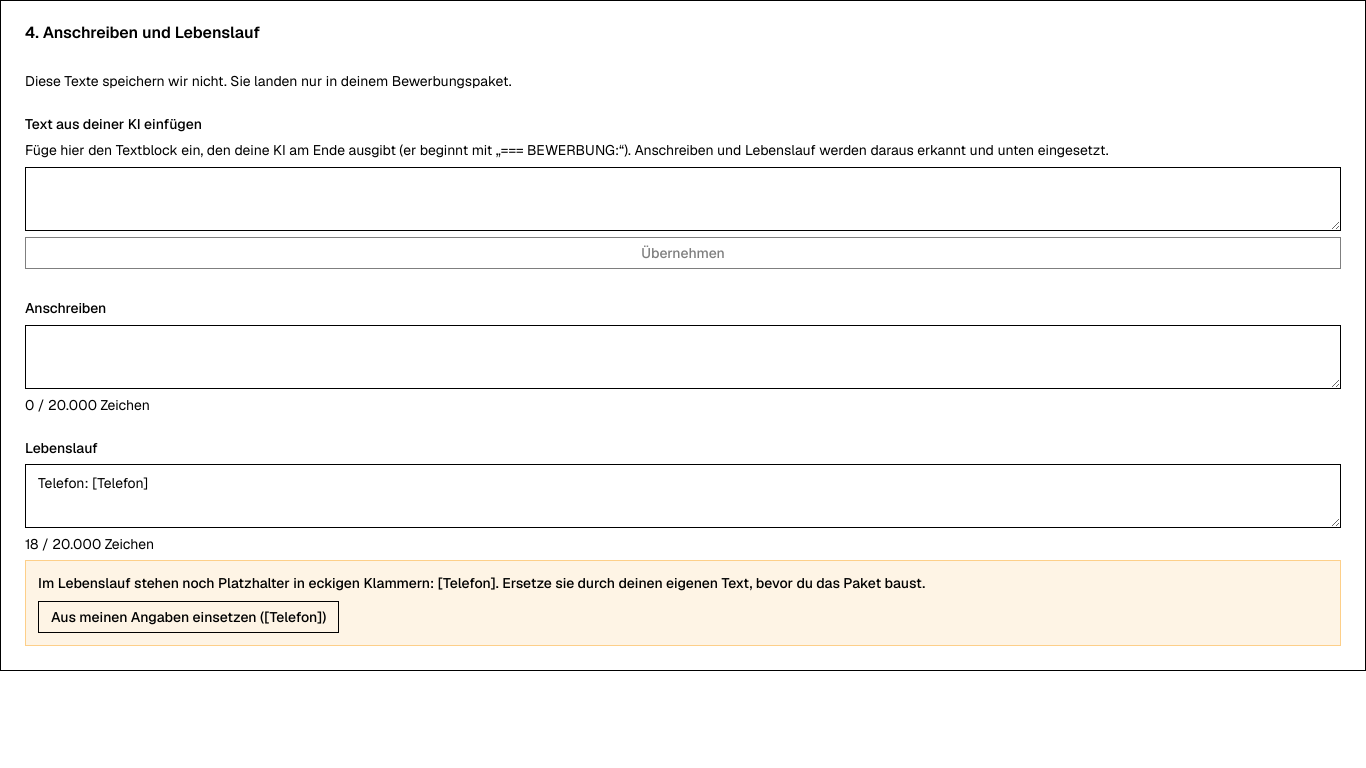
Scenario: SchrittTexte - Fokus › setzt den Fokus nach „Aus meinen Angaben einsetzen" in das Feld, in dem eingesetzt wurde
Click the button "Aus meinen Angaben einsetzen ([Telefon])" at [189, 617], box 38,601 -> 339,633
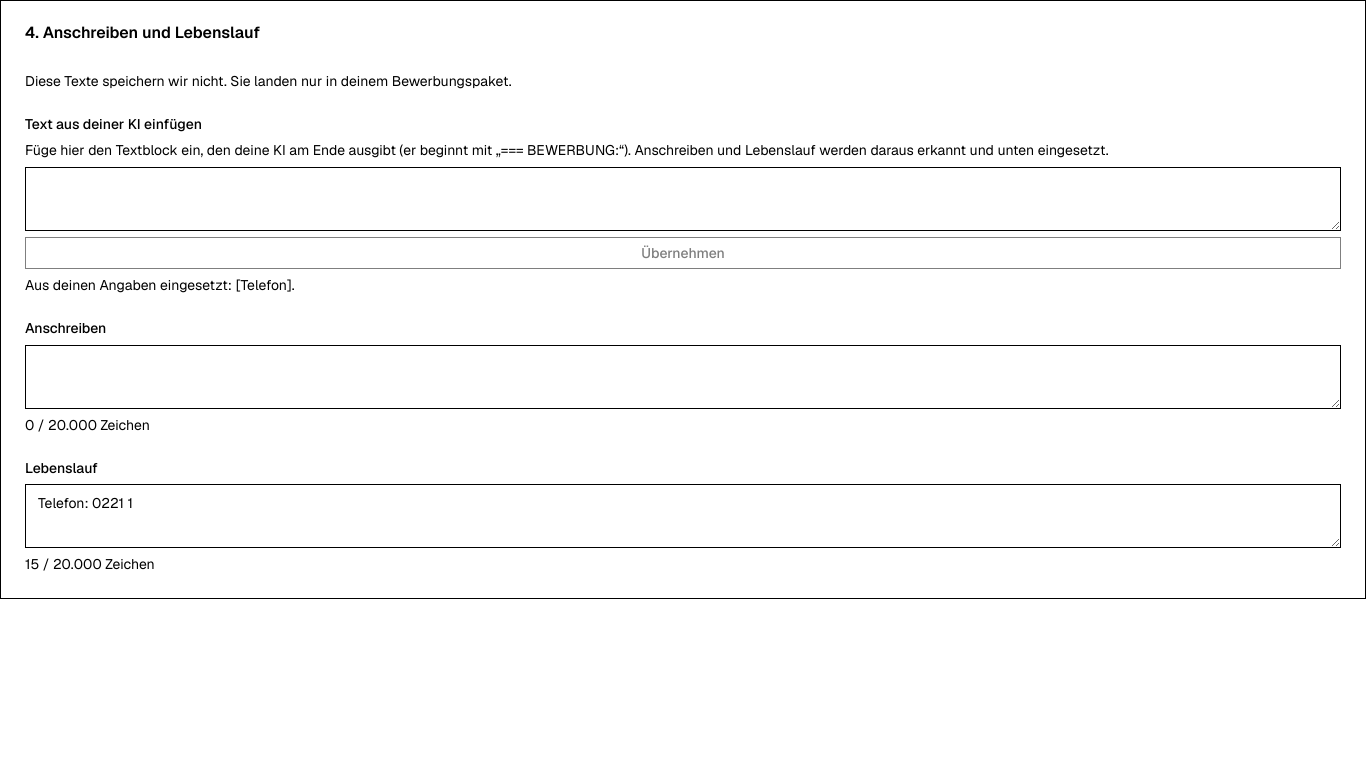
Expected: the text box labelled "Lebenslauf" holds "Telefon: 0221 1", 25,484 -> 1341,548
